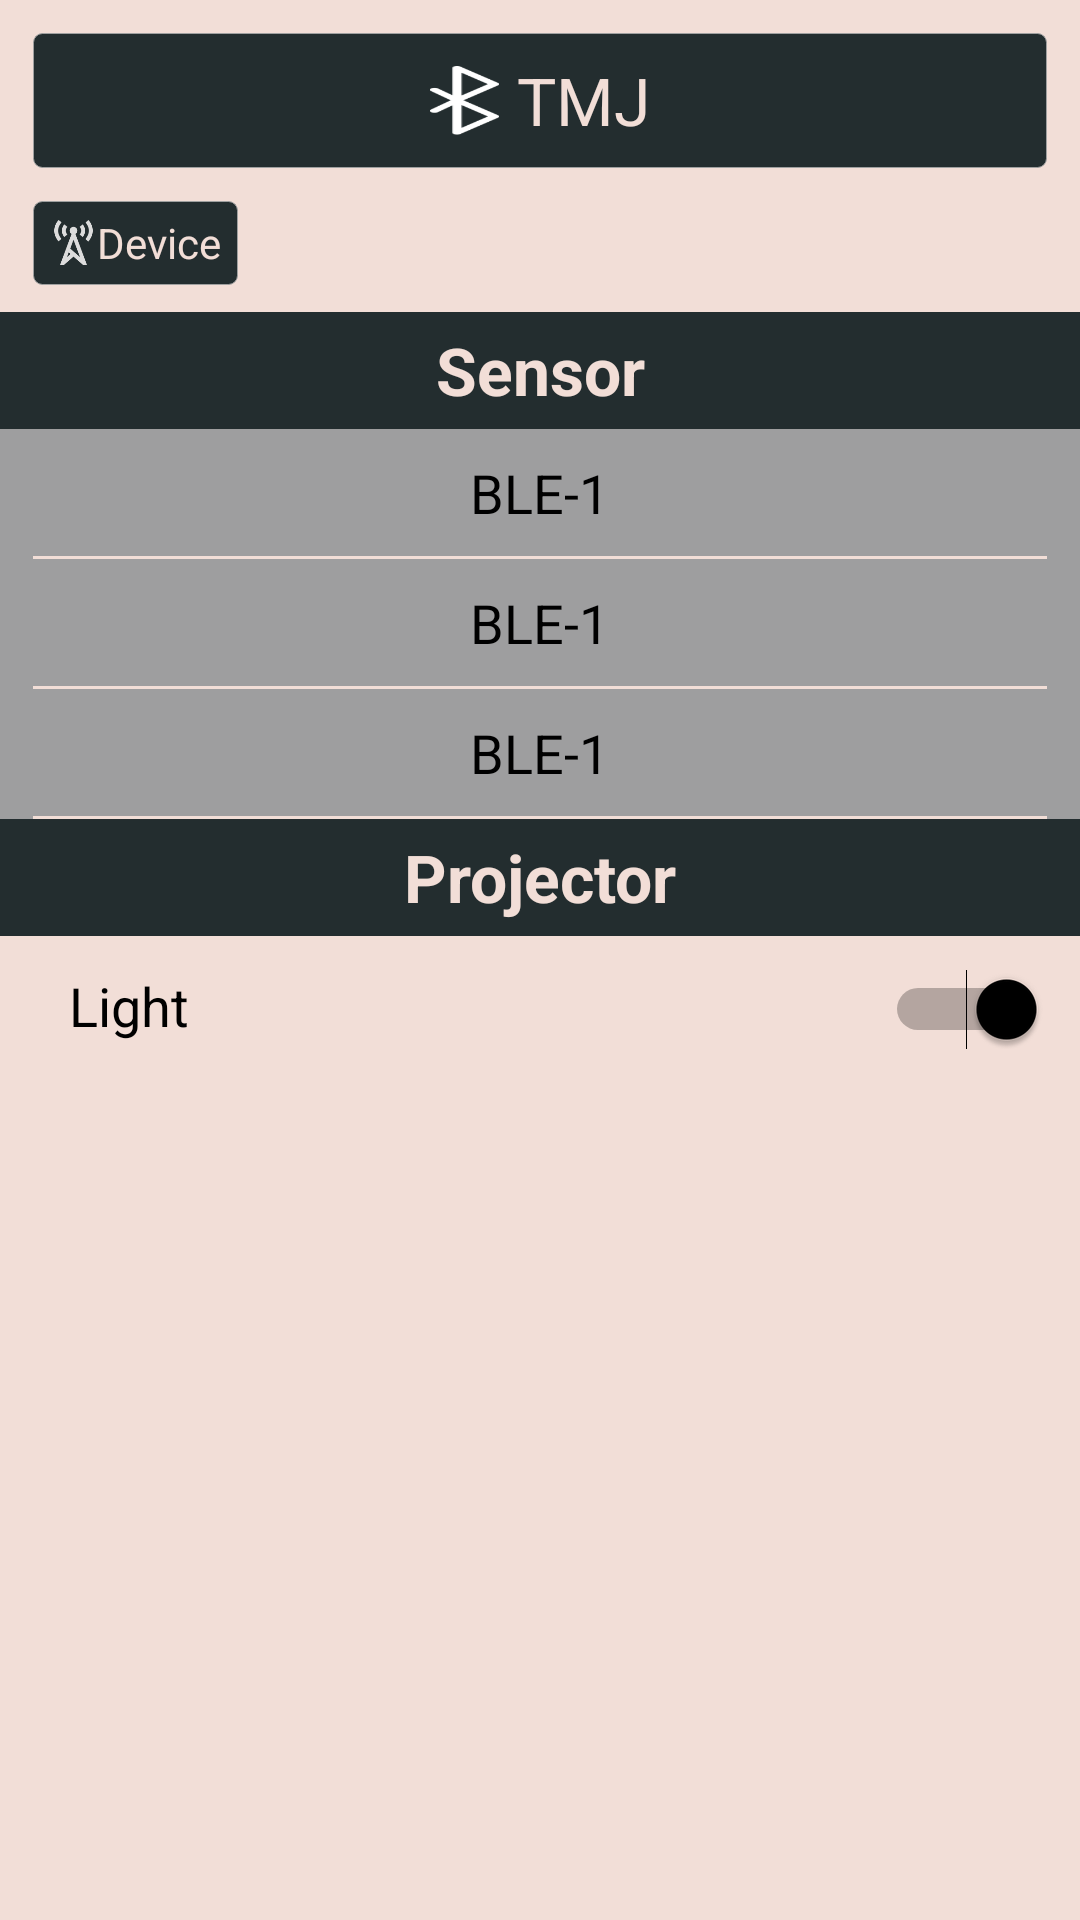

Point at icon controls on the screen. Image size 1080×1920, points as (x,y).
connect: (73,242)
